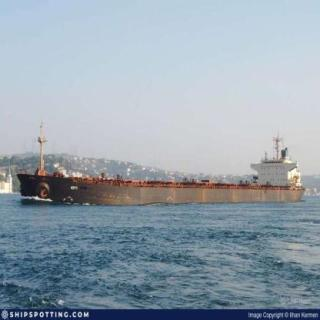Bulk Carrier: (5, 144, 308, 206)
